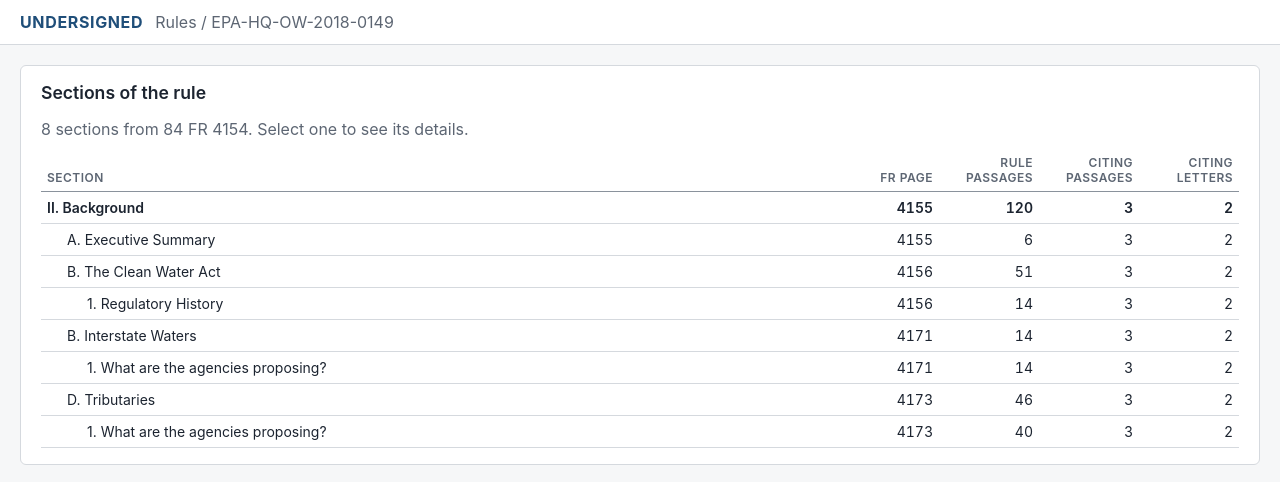
Test case: shows the API's reason when the citing passages cannot be loaded
Expected: the table is shown, [41,155,1239,448]
Click the button "D. Tributaries" at (111, 400), box [67,391,155,408]
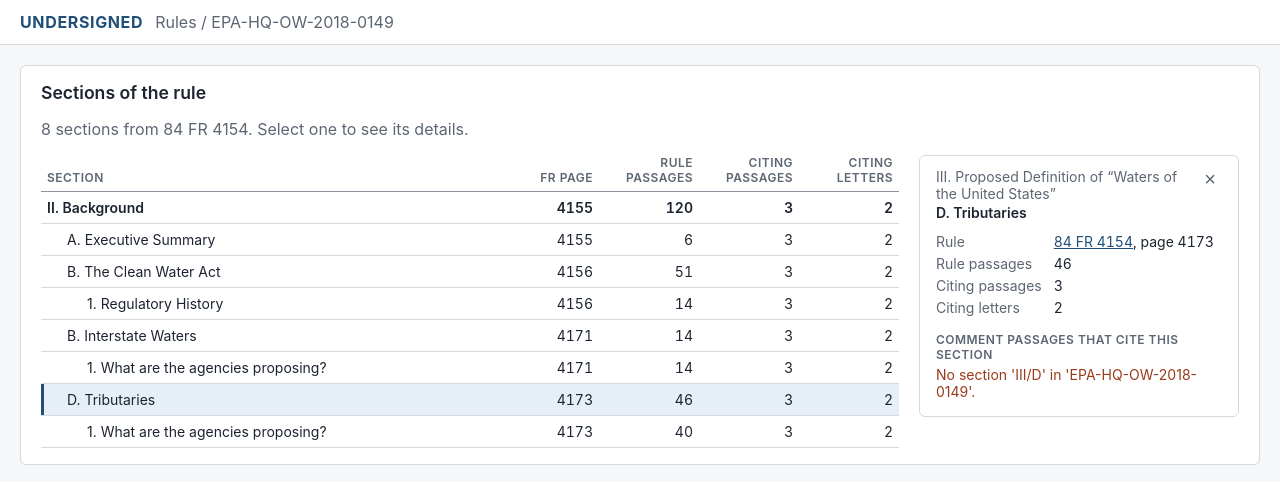
Now the text "No section 'III/D' in 'EPA-HQ-OW-2018-0149'." is shown, box [936,366,1222,400]
